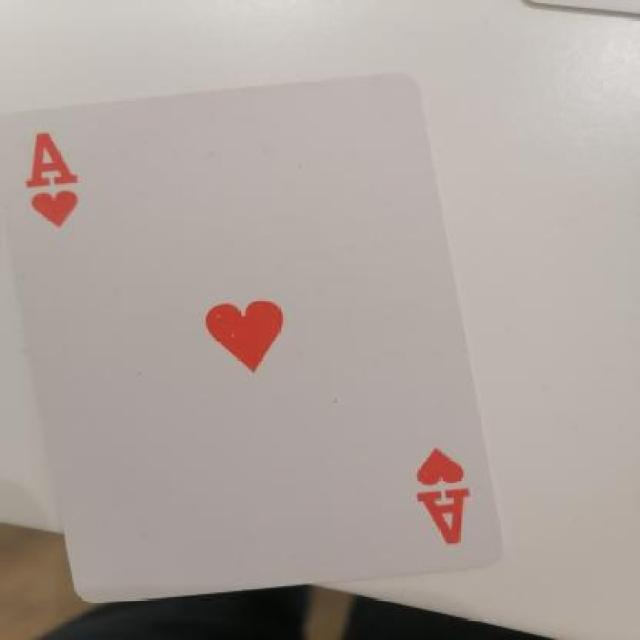AH: (383, 428, 491, 548), (24, 128, 104, 243)
